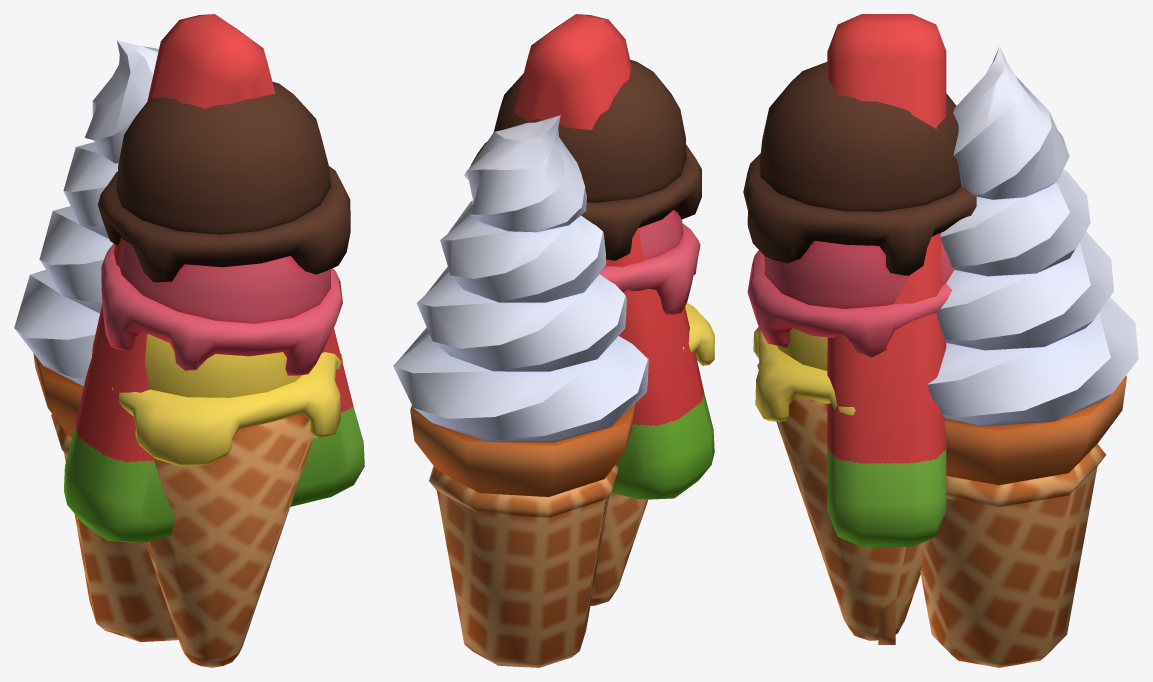
The model's file is kem 3.fbx.
3 views of the same model, side by side, from view 1: azimuth 30°, elevation 25°; view 2: azimuth 150°, elevation 25°; view 3: azimuth 270°, elevation 25° (orthographic). The views are drawn at different scales.
Parts seen in each view (by area): view 1: polySurface41, polySurface204, polySurface228; view 2: polySurface228, polySurface41, polySurface204; view 3: polySurface228, polySurface41, polySurface204.
Boxes of the visible parts, x1,y1,x2,y2 form: polySurface41: [97, 81, 350, 667]; polySurface204: [64, 14, 364, 542]; polySurface228: [14, 40, 178, 641]; polySurface228: [393, 115, 648, 667]; polySurface41: [471, 59, 714, 605]; polySurface204: [513, 14, 714, 499]; polySurface228: [920, 46, 1138, 667]; polySurface41: [743, 62, 976, 640]; polySurface204: [827, 14, 946, 644].
Bounding box in the file's own units: 63.01 × 142 × 81.48.
Materials: 1 (1 with a texture image).
